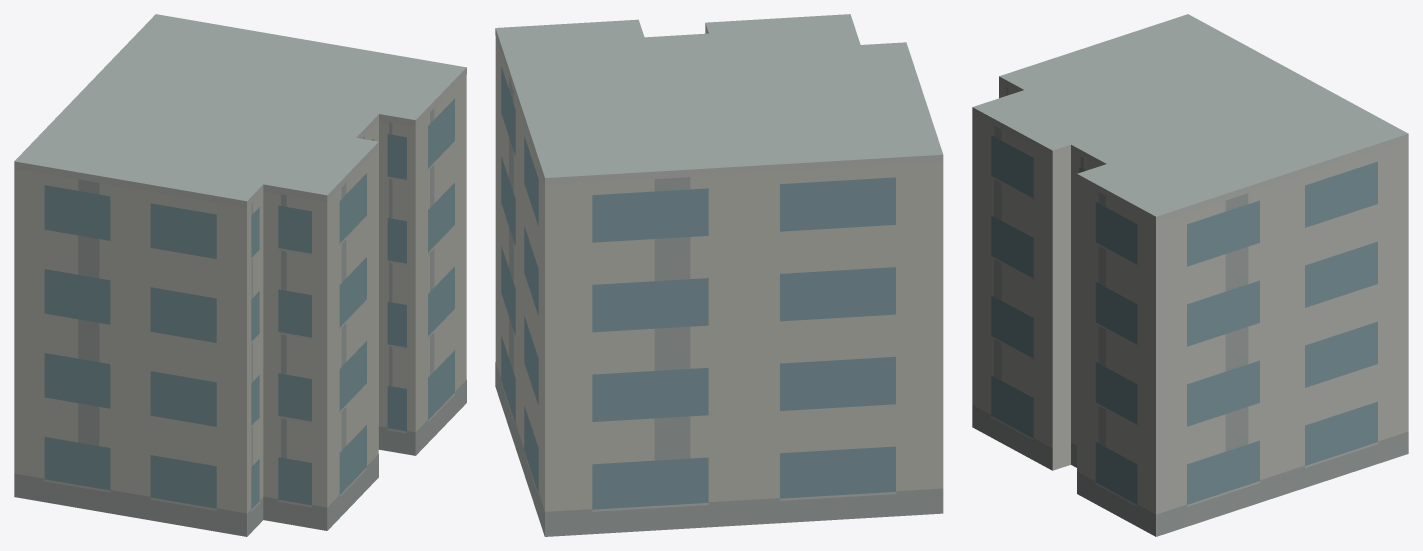
Rendered from residential-4bbad612-849a-4b28-af1d-3377c4bdd976.glb.
The picture shows the model from 3 angles, left to right: view 1: azimuth 30°, elevation 25°; view 2: azimuth 150°, elevation 25°; view 3: azimuth 270°, elevation 25°; orthographic projection. The views are drawn at different scales.
Parts seen in each view (by area): view 1: residential-4bbad612-849a-4b28-af1d-3377c4bdd976.tmp; view 2: residential-4bbad612-849a-4b28-af1d-3377c4bdd976.tmp; view 3: residential-4bbad612-849a-4b28-af1d-3377c4bdd976.tmp.
Part boxes in pixels (x1,y1,x2,y2): residential-4bbad612-849a-4b28-af1d-3377c4bdd976.tmp: [14, 14, 466, 536]; residential-4bbad612-849a-4b28-af1d-3377c4bdd976.tmp: [495, 14, 943, 536]; residential-4bbad612-849a-4b28-af1d-3377c4bdd976.tmp: [972, 14, 1408, 536].
Size of the model in its own units: 16.03 by 11.79 by 14.57.
